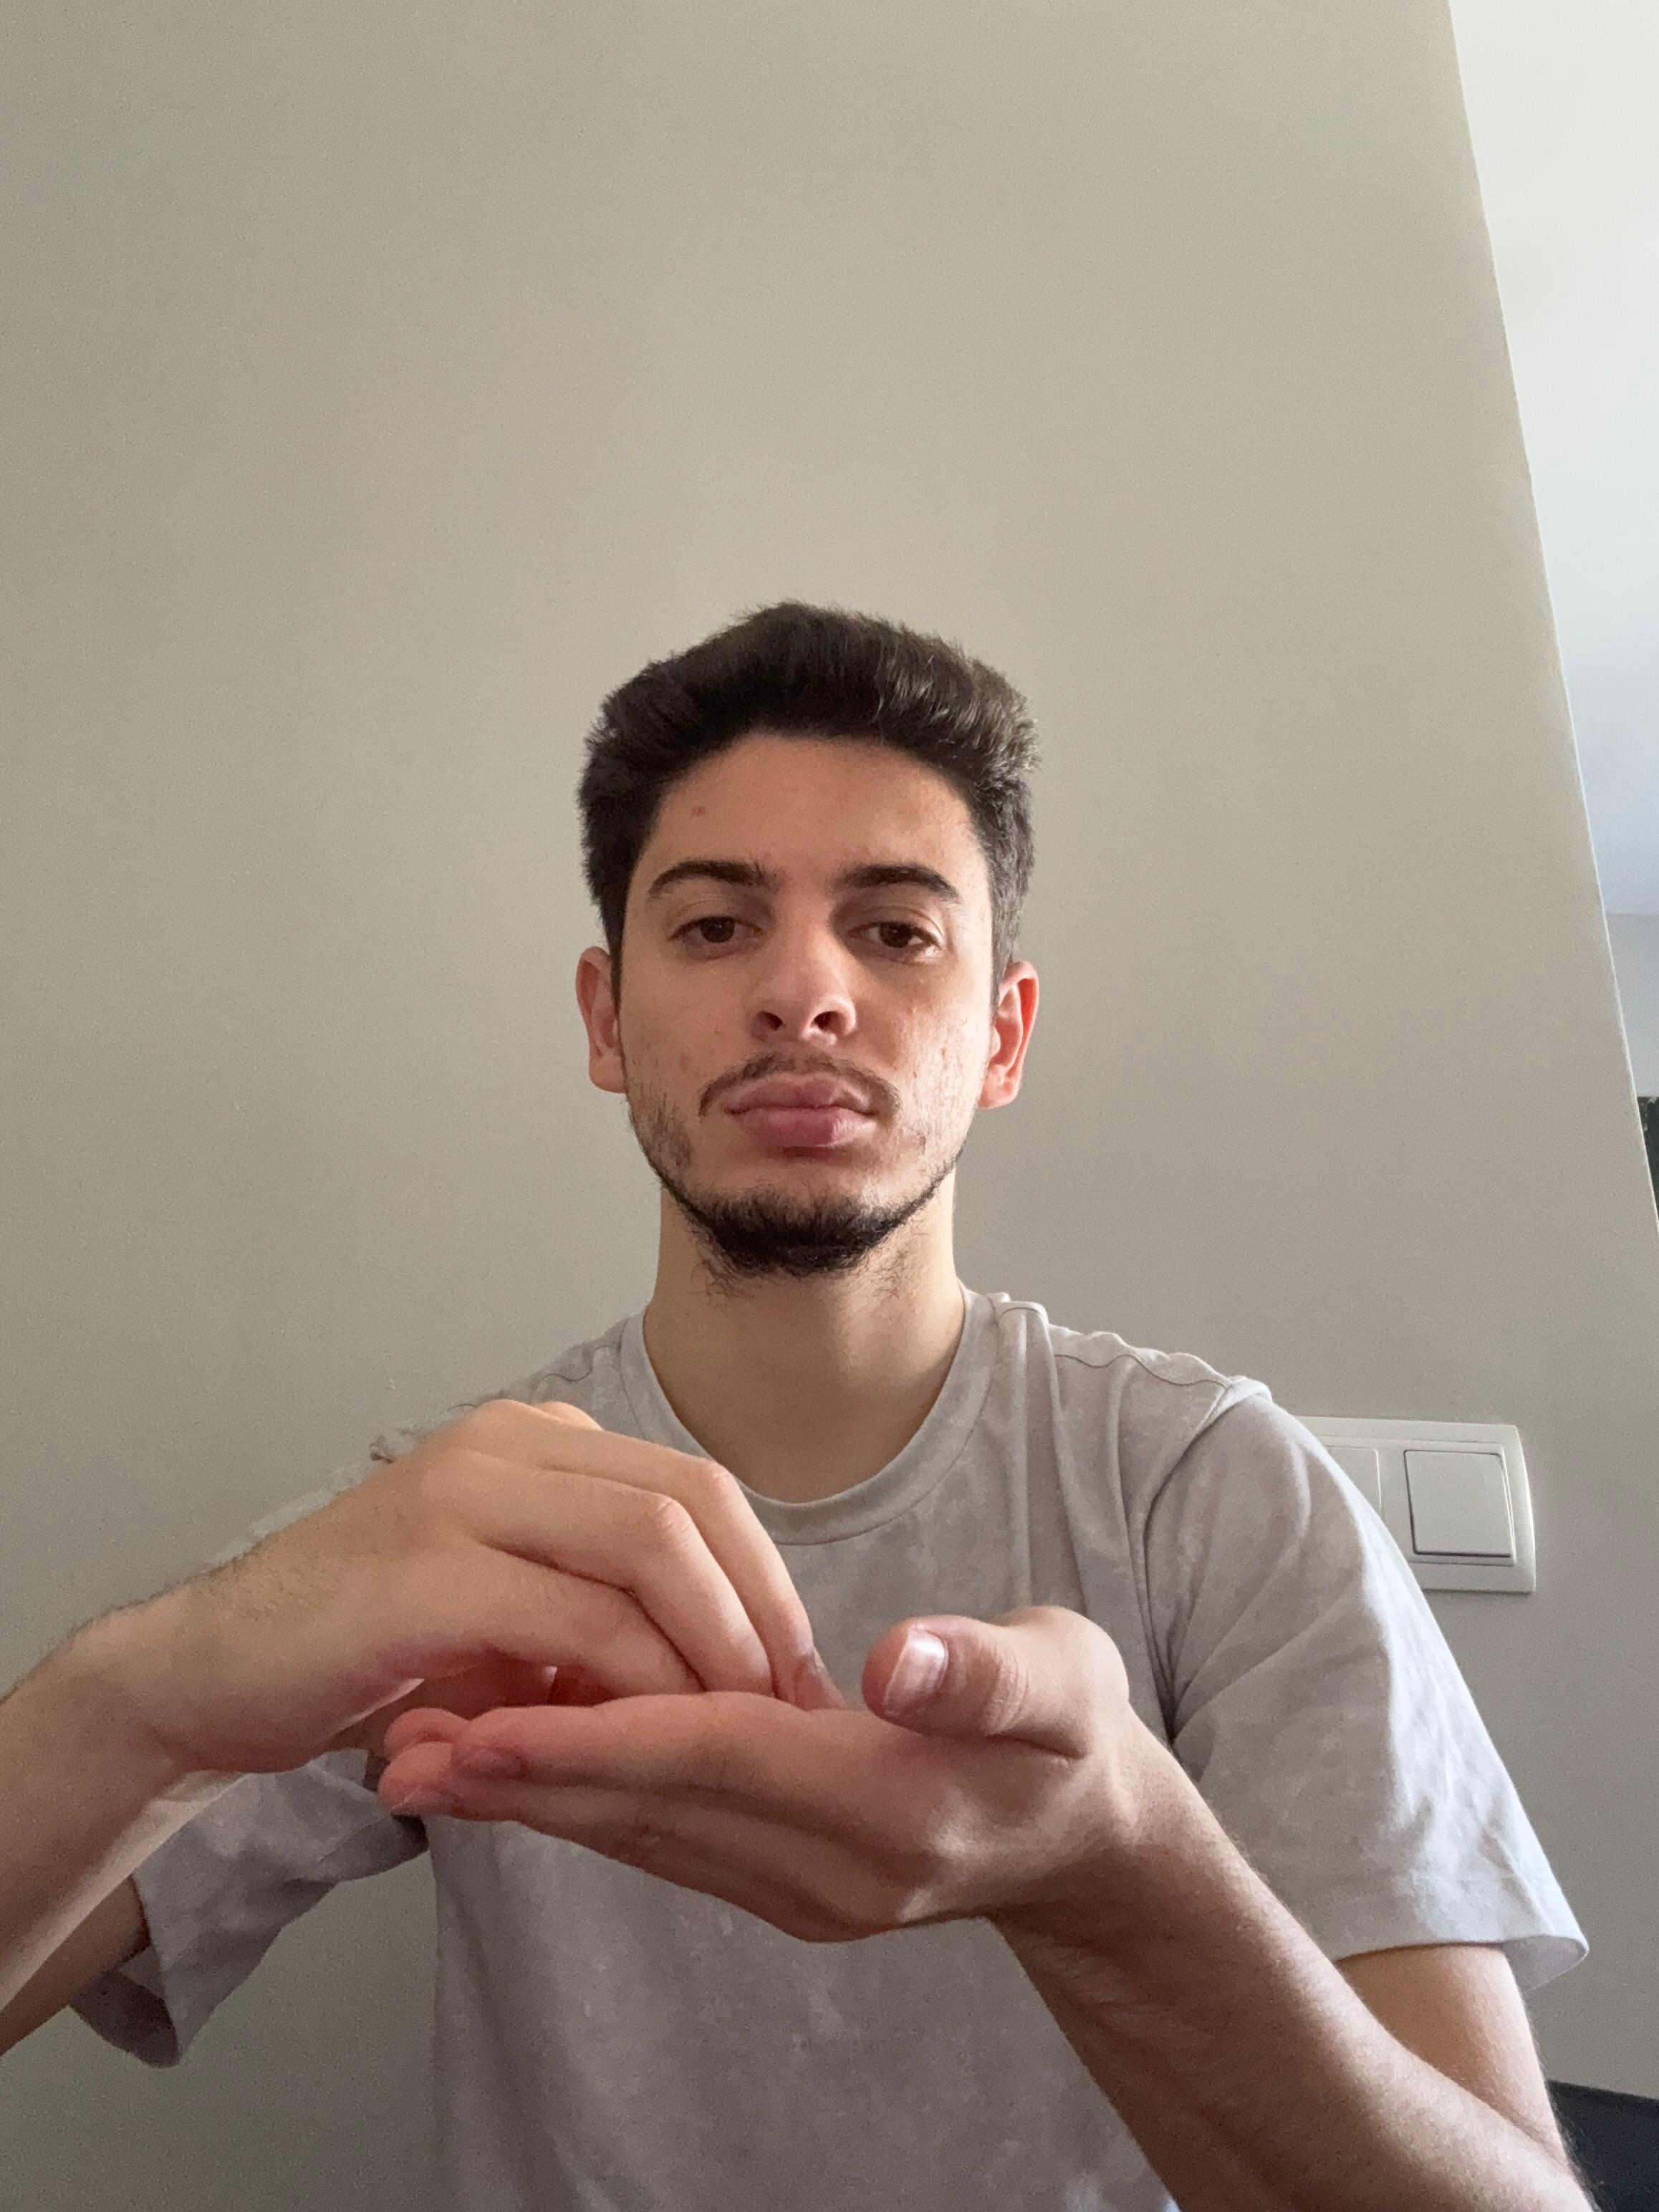learning: (7, 594, 1598, 2202)
